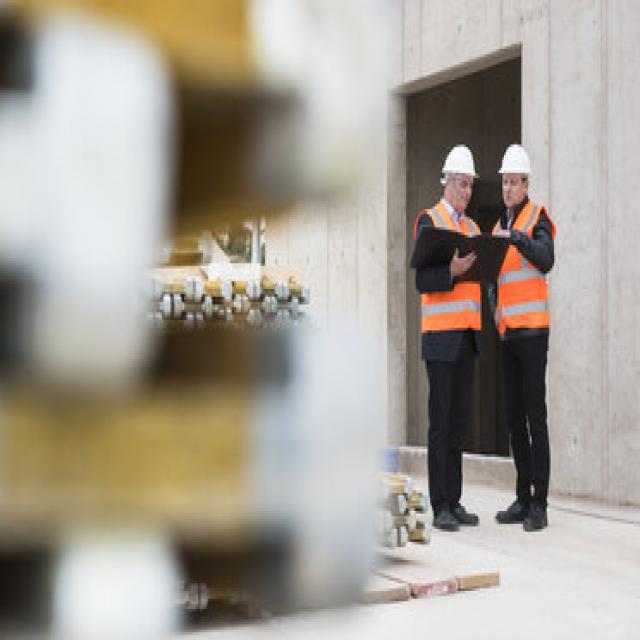helmet: (440, 146, 481, 188), (498, 143, 533, 178)
vest: (484, 201, 557, 341), (412, 199, 486, 334)
